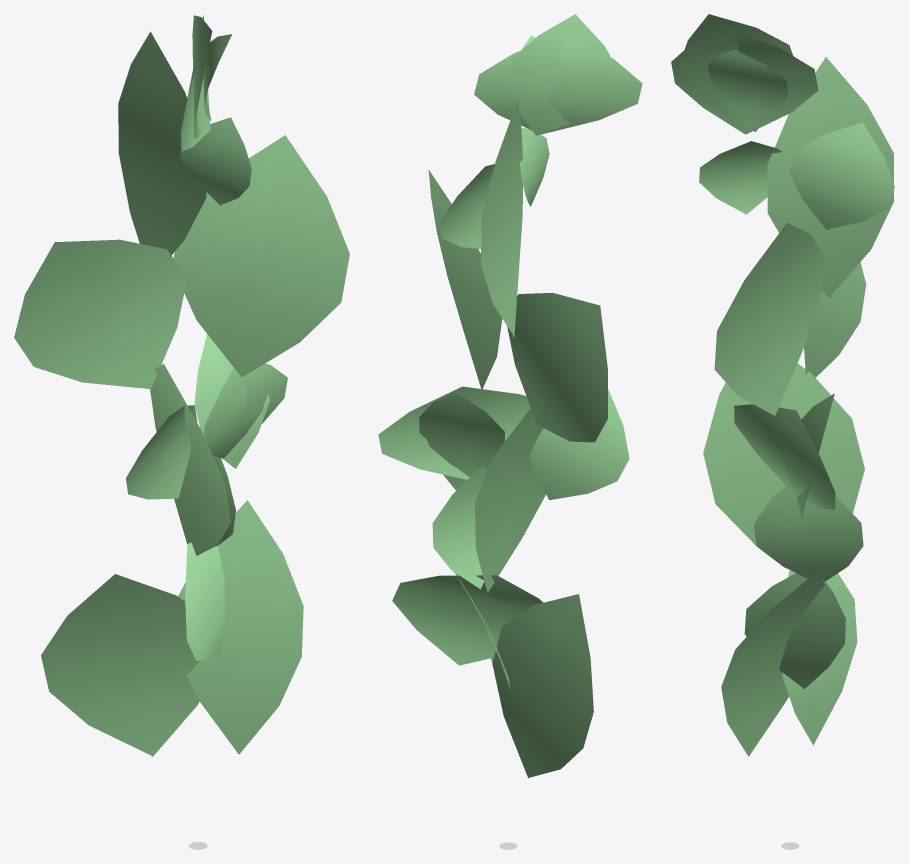
The model's file is mint_1.glb.
3 renders of one model, left to right at view 1: azimuth 30°, elevation 25°; view 2: azimuth 150°, elevation 25°; view 3: azimuth 270°, elevation 25°, orthographic. The views are drawn at different scales.
Visible parts, largest first — view 1: Leaf_09, Leaf_13, Leaf_06, Leaf_03, Leaf_07, Leaf_14, Leaf_08, Leaf_12, Leaf_15, Leaf_11, Leaf_04, Leaf_10 (+2 smaller); view 2: Leaf_06, Leaf_13, Leaf_12, Leaf_10, Leaf_14, Leaf_07, Leaf_11, Leaf_09, Leaf_01, Leaf_04, Leaf_08, Leaf_05 (+2 smaller); view 3: Leaf_09, Leaf_14, Leaf_07, Leaf_00, Leaf_03, Leaf_05, Leaf_08, Leaf_12, Leaf_06, Leaf_02, Leaf_13, Leaf_10 (+3 smaller).
Part boxes in pixels (box(x1,y1,x2,y2)): Leaf_09: box(173, 135, 349, 377); Leaf_13: box(14, 239, 186, 388); Leaf_06: box(41, 574, 200, 756); Leaf_03: box(178, 500, 303, 754); Leaf_07: box(118, 31, 206, 256); Leaf_14: box(150, 363, 230, 555); Leaf_08: box(203, 363, 287, 458); Leaf_12: box(185, 542, 225, 660); Leaf_15: box(180, 117, 251, 205); Leaf_11: box(126, 405, 197, 499); Leaf_04: box(194, 334, 269, 468); Leaf_10: box(180, 15, 210, 151); Leaf_06: box(492, 594, 593, 778); Leaf_13: box(507, 292, 607, 442); Leaf_12: box(392, 575, 543, 665); Leaf_10: box(474, 32, 642, 134); Leaf_14: box(475, 407, 545, 593); Leaf_07: box(481, 99, 522, 337); Leaf_11: box(529, 389, 629, 499); Leaf_09: box(428, 170, 502, 388); Leaf_01: box(506, 14, 610, 135); Leaf_04: box(419, 392, 504, 490); Leaf_08: box(378, 386, 530, 479); Leaf_05: box(432, 466, 486, 589); Leaf_09: box(714, 222, 823, 415); Leaf_14: box(703, 363, 864, 546); Leaf_07: box(767, 57, 893, 297); Leaf_00: box(789, 122, 894, 229); Leaf_03: box(721, 570, 824, 756); Leaf_05: box(753, 485, 863, 581); Leaf_08: box(734, 404, 835, 509); Leaf_12: box(744, 573, 845, 689); Leaf_06: box(782, 570, 857, 745); Leaf_02: box(708, 49, 788, 128); Leaf_13: box(804, 262, 866, 377); Leaf_10: box(671, 27, 818, 134).
Size of the model in its own units: 0.2596 by 0.8193 by 0.2029.
